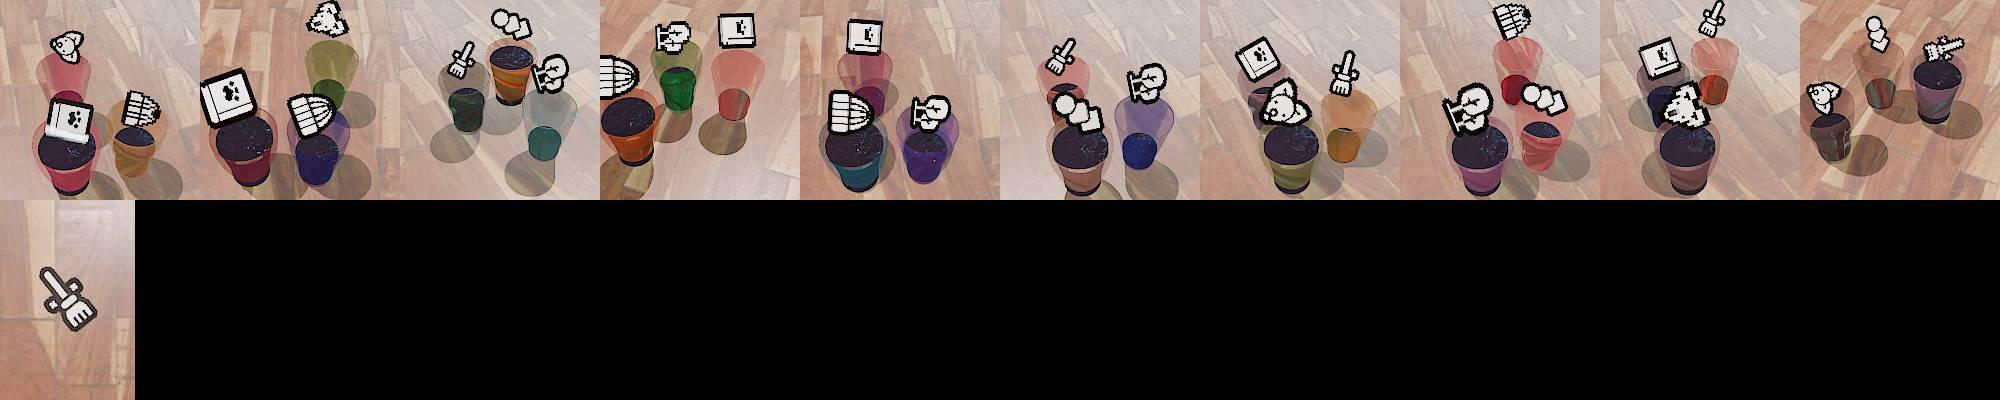icon: (199, 68, 261, 130), (38, 266, 97, 331), (1441, 79, 1494, 135), (1259, 78, 1314, 130), (1051, 85, 1103, 134), (1659, 82, 1713, 129), (287, 92, 337, 140), (43, 97, 94, 144), (1235, 34, 1282, 84), (828, 88, 875, 135), (1636, 36, 1682, 82), (1519, 79, 1569, 116), (598, 54, 639, 98), (1126, 62, 1167, 103), (532, 51, 570, 94), (120, 89, 159, 130), (911, 94, 952, 132), (306, 1, 348, 38), (1491, 3, 1532, 39), (1329, 48, 1360, 97), (844, 18, 883, 56), (717, 13, 756, 50), (490, 8, 533, 41), (1807, 80, 1843, 115), (654, 19, 690, 54), (448, 39, 477, 80), (1923, 34, 1964, 62), (50, 31, 84, 64), (1047, 37, 1078, 74), (1698, 1, 1726, 38), (1865, 15, 1890, 54)
